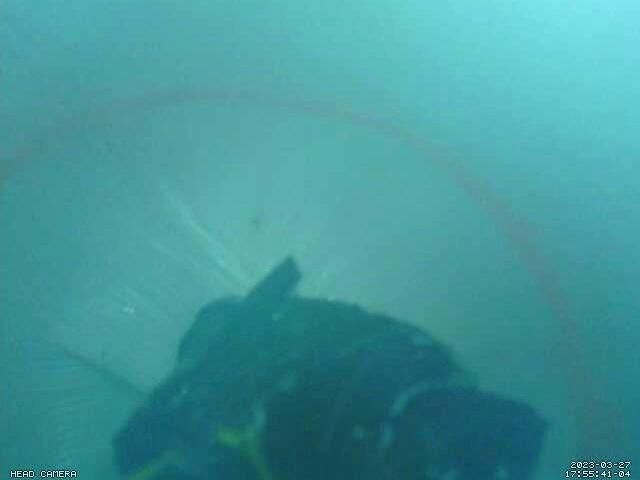head: (0, 85, 599, 461)
